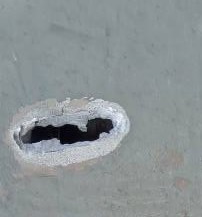Spalling: (2, 97, 131, 167)
